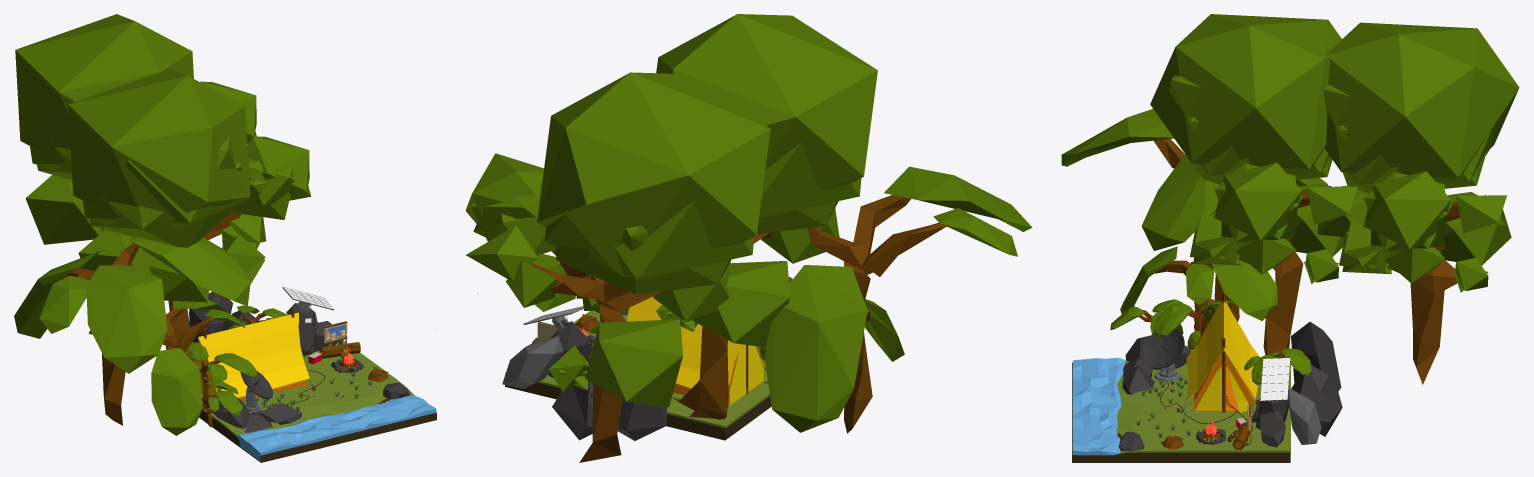
File: camp_simple_export1.glb
3 renders of one model, left to right at view 1: azimuth 30°, elevation 25°; view 2: azimuth 150°, elevation 25°; view 3: azimuth 270°, elevation 25°, orthographic. The views are drawn at different scales.
Parts seen in each view (by area): view 1: Big tree leaves, Big tree leaves.001, Small Tree 2.003, Small Tree 2.002, Tent-main.001, Rock2.007, Rock2.003, Rock2.005, Rock_1.004, Small Tree Leaves 1, Rock2.009, Rock2.001 (+3 smaller); view 2: Big tree leaves.001, Big tree leaves, Small Tree 2.003, Big Tree.001, Rock2.009, Big Tree, Tent-main.001, Rock.001, Rock2.007, Rock2.005, Small Tree 2.002, Tent-main.002 (+1 smaller); view 3: Big tree leaves.001, Big tree leaves, Small Tree 2.003, Rock2.007, Small Tree 2.002, Rock2.003, Big Tree.001, Rock2.009, Tent-main.001, Big Tree, Rock2.005, Rock_1.004 (+11 smaller).
Part boxes in pixels (x1,y1,x2,y2): Big tree leaves: (68,68,311,302); Big tree leaves.001: (15,14,256,244); Small Tree 2.003: (14,236,250,425); Small Tree 2.002: (88,299,245,435); Tent-main.001: (194,312,309,398); Rock2.007: (201,340,414,436); Rock2.003: (236,395,436,461); Rock2.005: (199,412,436,462); Rock_1.004: (205,397,301,432); Small Tree Leaves 1: (185,342,257,390); Rock2.009: (189,291,254,342); Rock2.001: (289,303,338,355); Big tree leaves.001: (465,72,770,407); Big tree leaves: (656,14,877,347); Small Tree 2.003: (764,166,1032,433); Big Tree.001: (531,250,663,462); Rock2.009: (552,363,666,440); Big Tree: (672,232,771,419); Tent-main.001: (627,296,765,388); Rock.001: (502,336,563,388); Rock2.007: (505,310,769,428); Rock2.005: (505,385,771,440); Small Tree 2.002: (681,277,904,361); Tent-main.002: (729,344,763,405); Big tree leaves.001: (1317,22,1519,292); Big tree leaves: (1150,14,1357,284); Small Tree 2.003: (1061,109,1328,321); Rock2.007: (1116,360,1290,454); Small Tree 2.002: (1120,246,1277,336); Rock2.003: (1072,357,1125,455); Big Tree.001: (1410,202,1460,384); Rock2.009: (1291,321,1342,436); Tent-main.001: (1186,301,1259,401); Big Tree: (1263,186,1331,357); Rock2.005: (1072,455,1290,462); Rock_1.004: (1122,335,1191,394).
Size of the model in its own units: 18.7 by 14.66 by 16.75.
